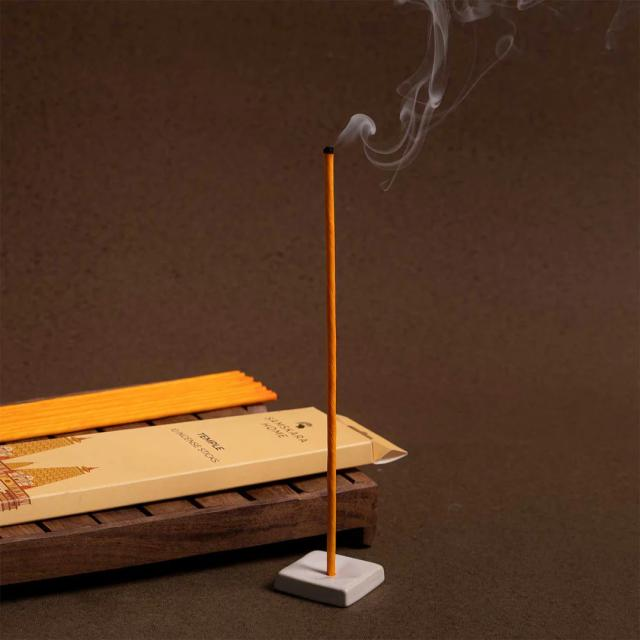Agarbatti: (295, 138, 366, 578)
